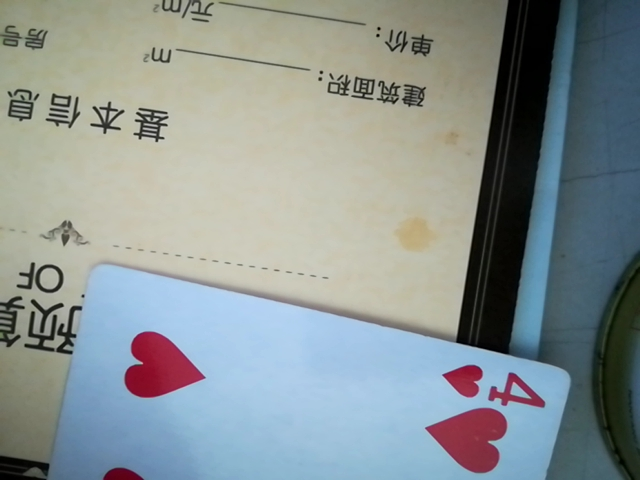hx 4: (22, 263, 586, 476)
